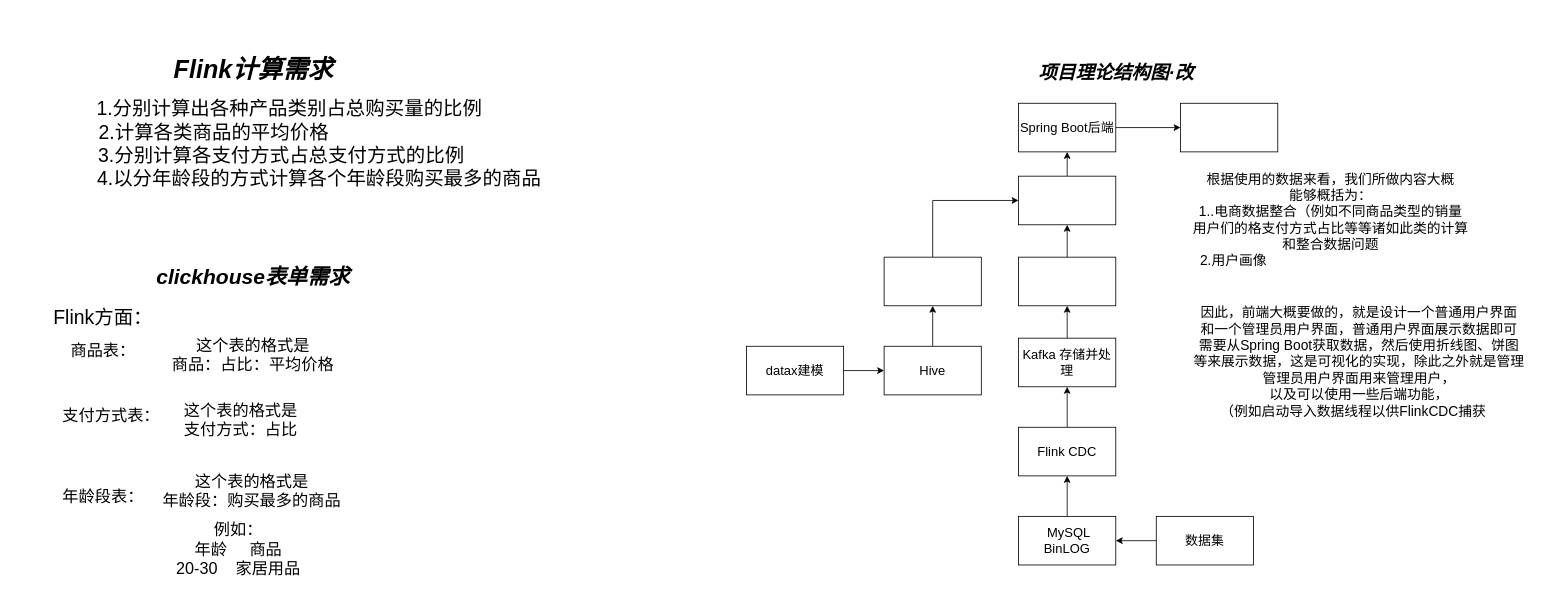
Image size: 1546x595. Some labels were removed from this diagram. Each missing label, with the centre of its shape:
Clickhouse: (x=1067, y=200)
flink聚合计算 得到算过后的数据: (x=1067, y=281)
spark: (x=932, y=281)
Vue前端: (x=1229, y=127)
